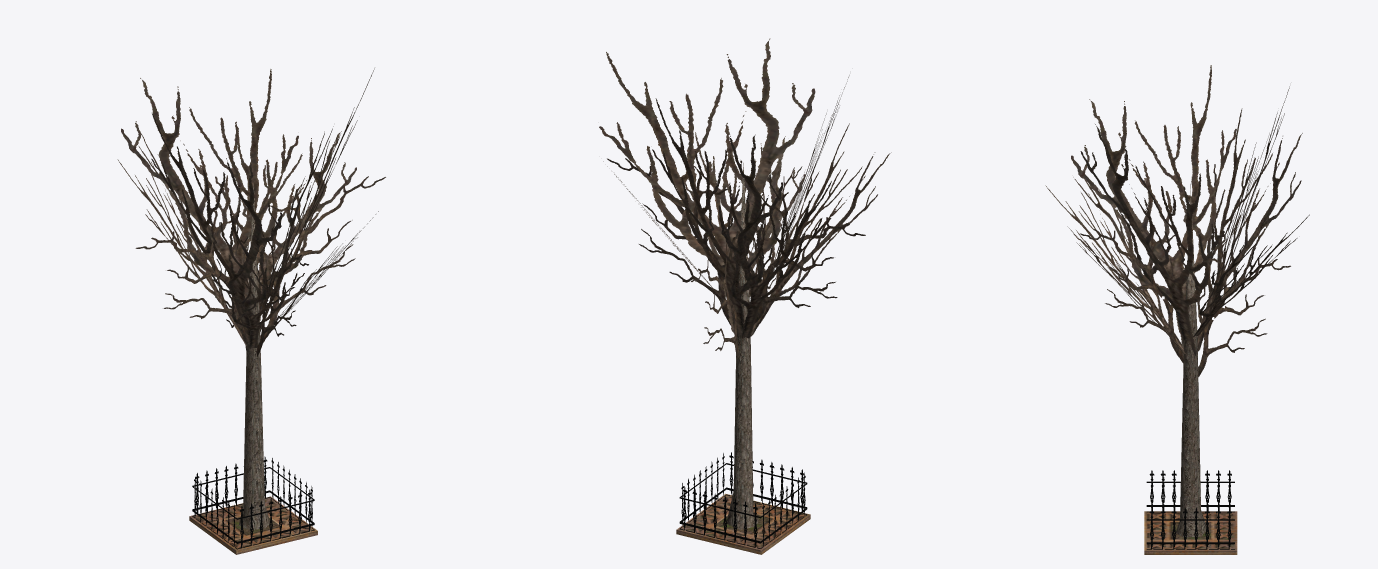
The model's file is tree1a_base.fbx.
The picture shows the model from 3 angles, left to right: view 1: azimuth 30°, elevation 25°; view 2: azimuth 150°, elevation 25°; view 3: azimuth 270°, elevation 25°; orthographic projection. The views are drawn at different scales.
Parts seen in each view (by area): view 1: mesh_4, mesh_0, mesh_1, mesh_3; view 2: mesh_4, mesh_0, mesh_1, mesh_3; view 3: mesh_4, mesh_0, mesh_3, mesh_1.
Boxes of the visible parts, bbox=[...] form: mesh_4: bbox=[117, 68, 385, 356]; mesh_0: bbox=[239, 180, 269, 529]; mesh_1: bbox=[192, 456, 314, 549]; mesh_3: bbox=[189, 496, 317, 554]; mesh_4: bbox=[599, 38, 891, 362]; mesh_0: bbox=[726, 163, 758, 529]; mesh_1: bbox=[679, 452, 807, 548]; mesh_3: bbox=[676, 493, 810, 554]; mesh_4: bbox=[1045, 65, 1309, 376]; mesh_0: bbox=[1175, 189, 1206, 537]; mesh_3: bbox=[1144, 511, 1237, 554]; mesh_1: bbox=[1146, 470, 1234, 549].
Bounding box in the file's own units: 1003 × 1056 × 840.
Materials: 4 (4 with a texture image).
